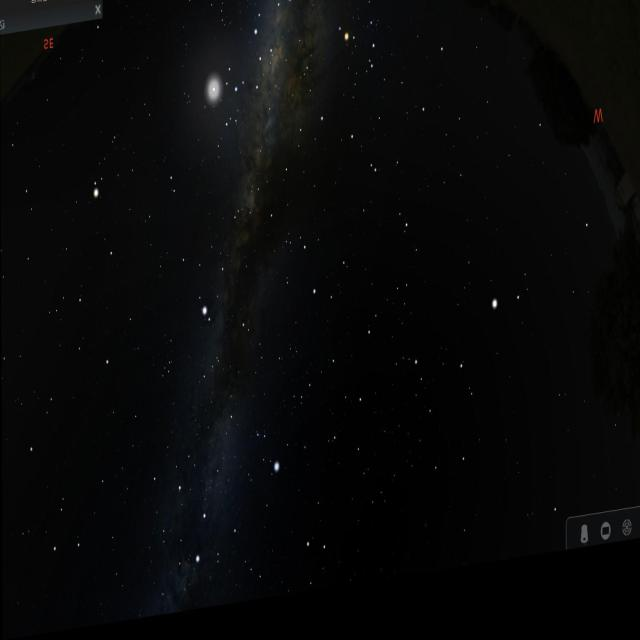aquila: (176, 195, 262, 372)
bootes: (418, 274, 536, 498)
cygnus: (170, 391, 244, 578)
lyra: (250, 425, 284, 491)
moon: (202, 75, 228, 136)
sagittarius: (192, 36, 267, 144)
scorpius: (272, 0, 386, 110)
